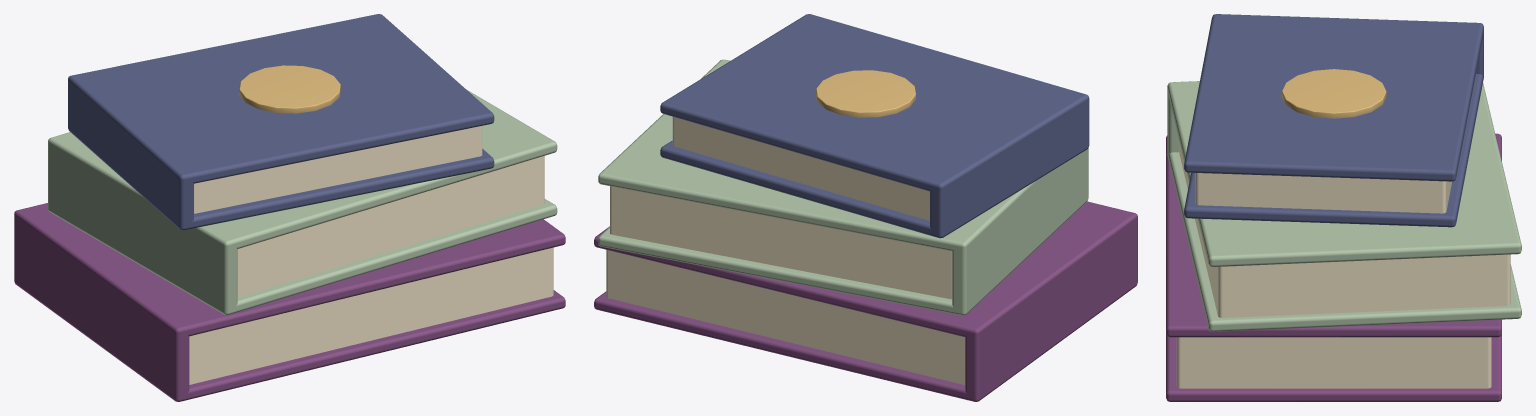
Rendered from Spell_Book_Stack.fbx.
3 renders of one model, left to right at view 1: azimuth 30°, elevation 25°; view 2: azimuth 150°, elevation 25°; view 3: azimuth 270°, elevation 25°, orthographic. The views are drawn at different scales.
Parts seen in each view (by area): view 1: Spell_Book_Stack_Mesh; view 2: Spell_Book_Stack_Mesh; view 3: Spell_Book_Stack_Mesh.
Boxes of the visible parts, box(x1,y1,x2,y2) form: Spell_Book_Stack_Mesh: box(14, 14, 565, 401); Spell_Book_Stack_Mesh: box(594, 14, 1137, 401); Spell_Book_Stack_Mesh: box(1166, 14, 1521, 401).
Size of the model in its own units: 0.2268 by 0.113 by 0.1694.
